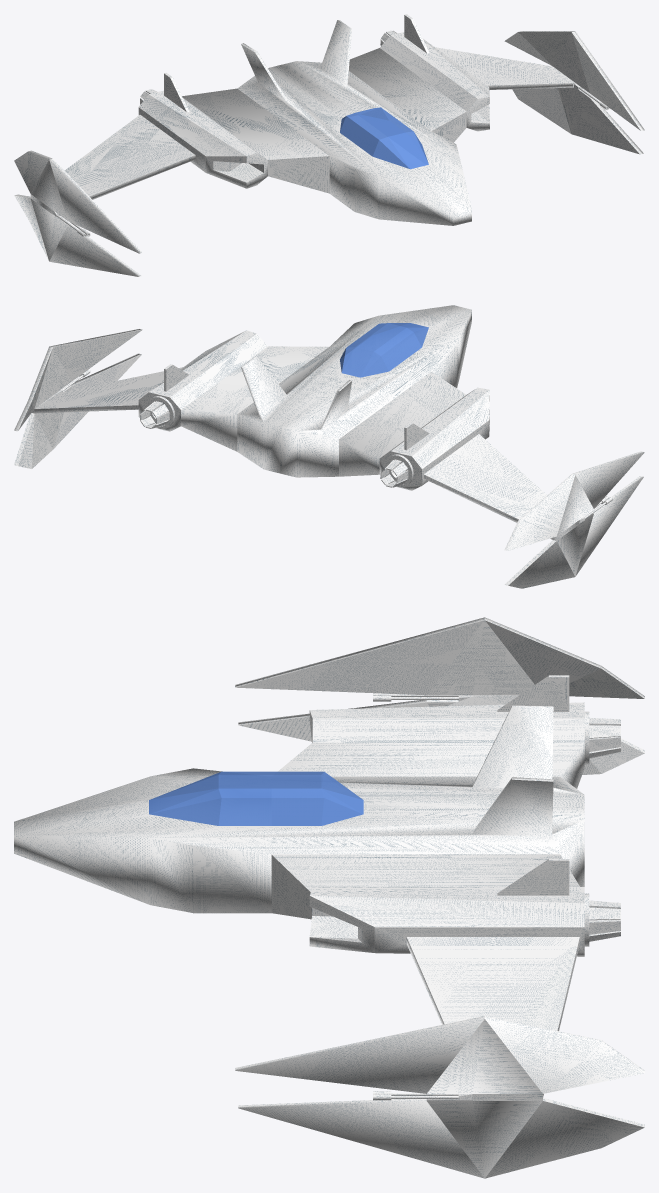
Rendered from ship.fbx.
The picture shows the model from 3 angles, top to bottom: view 1: azimuth 30°, elevation 25°; view 2: azimuth 150°, elevation 25°; view 3: azimuth 270°, elevation 25°; orthographic projection. The views are drawn at different scales.
Visible parts, largest first — view 1: Model, Group1; view 2: Model, Group1; view 3: Model, Group1.
Part boxes in pixels (x1,y1,x2,y2): Model: (14, 14, 644, 276); Group1: (340, 107, 428, 169); Model: (14, 305, 644, 588); Group1: (340, 323, 428, 377); Model: (14, 617, 644, 1178); Group1: (149, 771, 363, 825).
Bounding box in the file's own units: 6.24 × 1.7 × 4.12.
